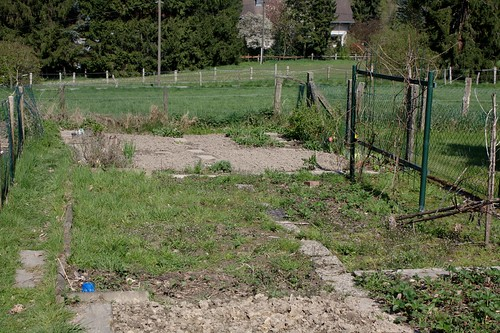grass: (1, 158, 468, 284), (32, 78, 354, 119)
tree: (270, 1, 334, 58)
vegetation: (1, 1, 248, 77), (343, 1, 500, 73)
